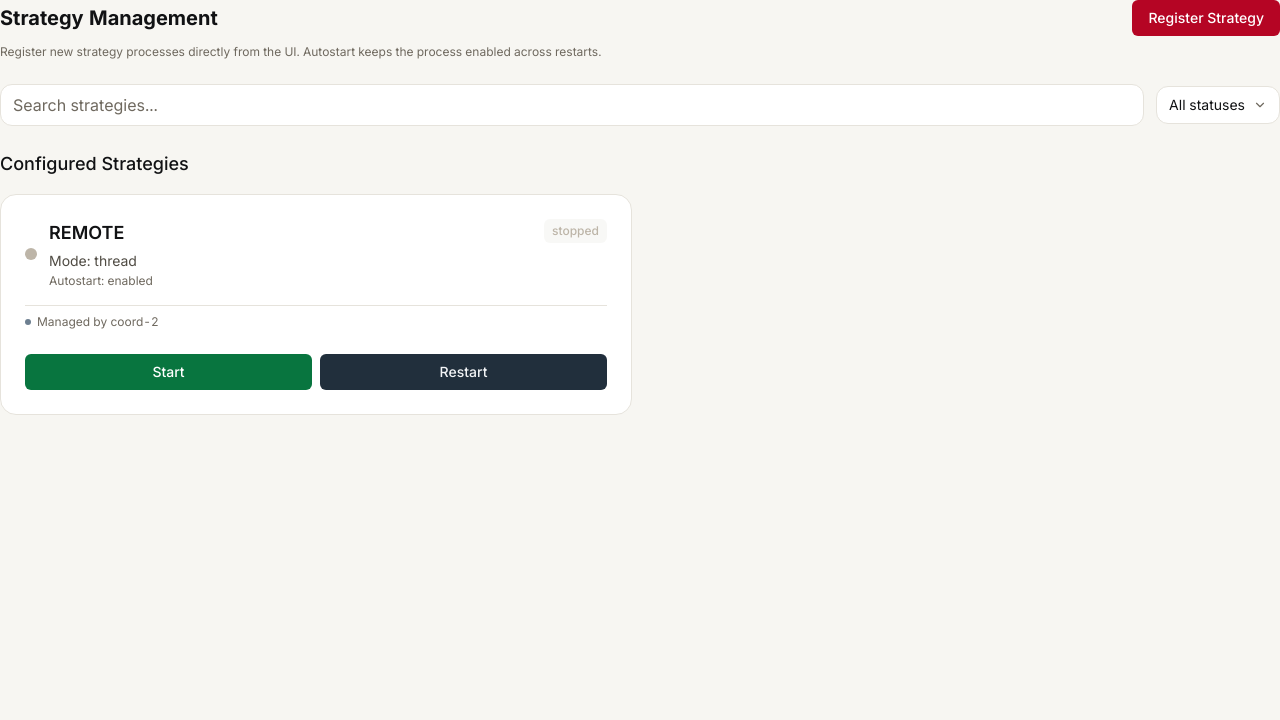
Test: Strategies › reflects the enable PATCH pending state on a remote strategy Start button
This screenshot has width=1280, height=720.
Click the button with aria-label "start remote strategy".
click(168, 372)  # box [25,354,312,390]
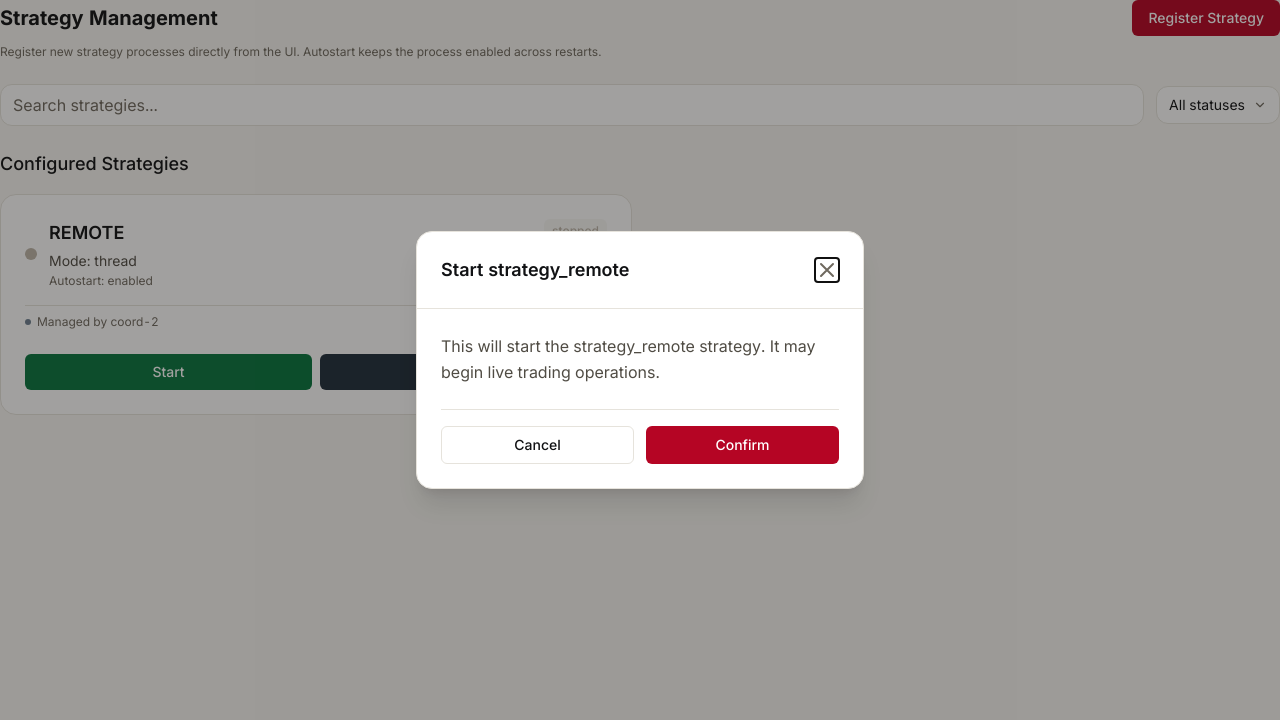
Result: the button "Confirm" is shown
Click the button "Confirm".
click(742, 445)  # box [646,426,839,464]
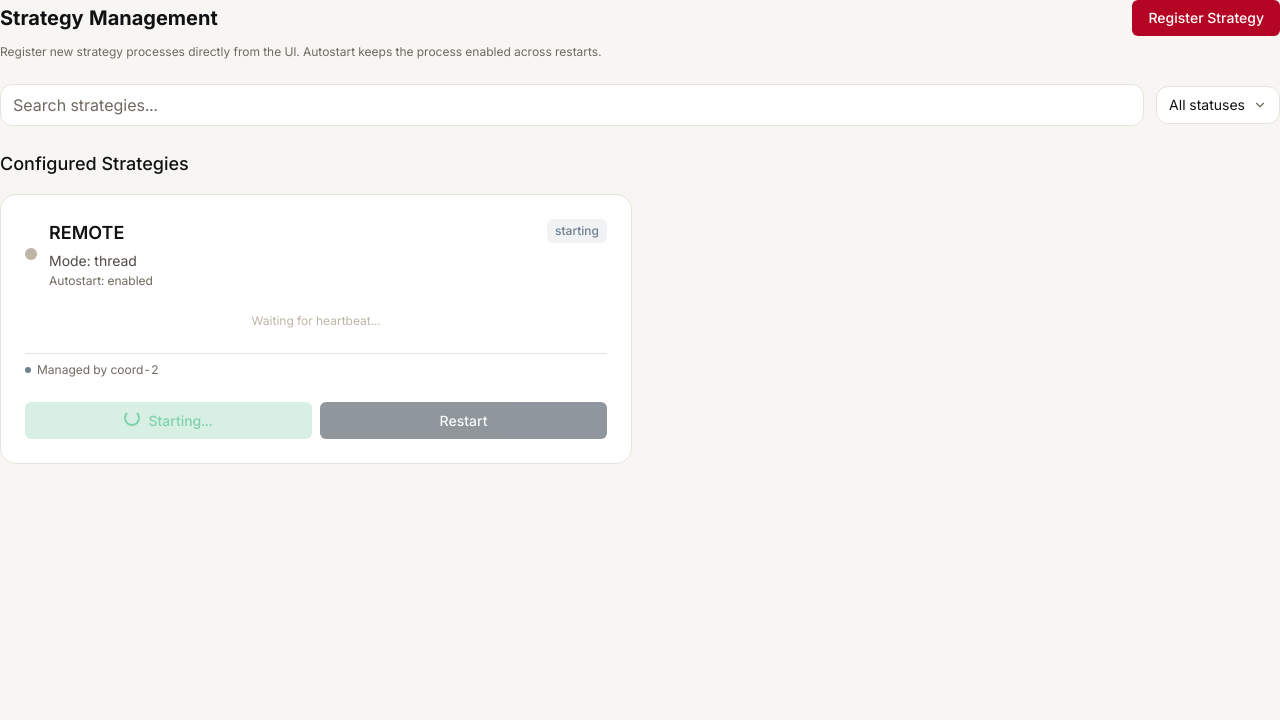
Result: the button "Starting..." is shown at [25,402,312,439]
